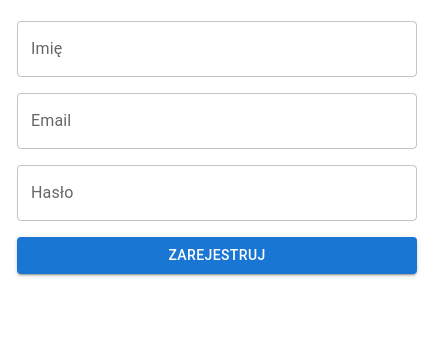
Test: RegisterForm › should display error for password too short
The width and height of the screenshot is (435, 362).
Type "123" into the password field labelled "Hasło" at (217, 193), box [17,165,417,221]
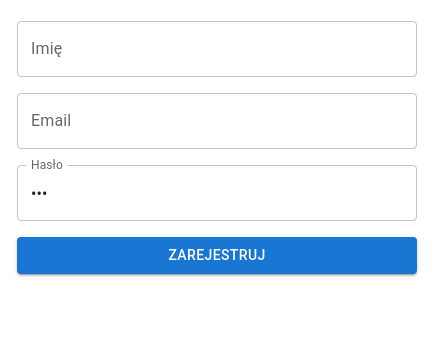
Click the button "Zarejestruj" at (217, 255), box [17,237,417,274]
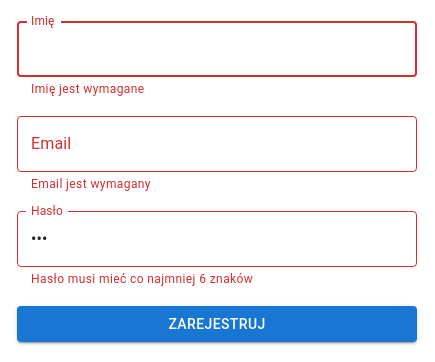
Now the text "Hasło musi mieć co najmniej 6 znaków" is shown, box [31,272,253,286]
